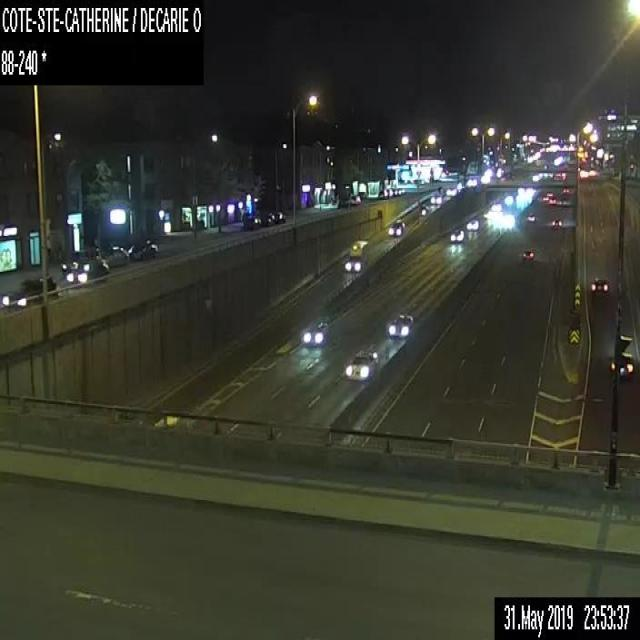vehicle: (1, 275, 56, 308), (65, 258, 108, 284), (344, 350, 378, 380), (344, 240, 368, 270), (127, 239, 159, 261), (302, 320, 327, 346), (610, 352, 633, 377), (387, 314, 413, 336), (102, 245, 128, 266), (590, 277, 609, 296), (389, 220, 405, 235), (242, 216, 260, 229), (260, 211, 274, 226), (450, 228, 463, 242), (466, 219, 478, 231), (522, 248, 534, 260), (275, 211, 285, 223), (551, 217, 561, 228), (348, 195, 361, 202), (377, 189, 387, 198), (526, 213, 535, 220), (386, 188, 392, 198), (548, 198, 556, 202), (562, 187, 568, 192), (546, 191, 552, 196), (542, 196, 548, 200)
